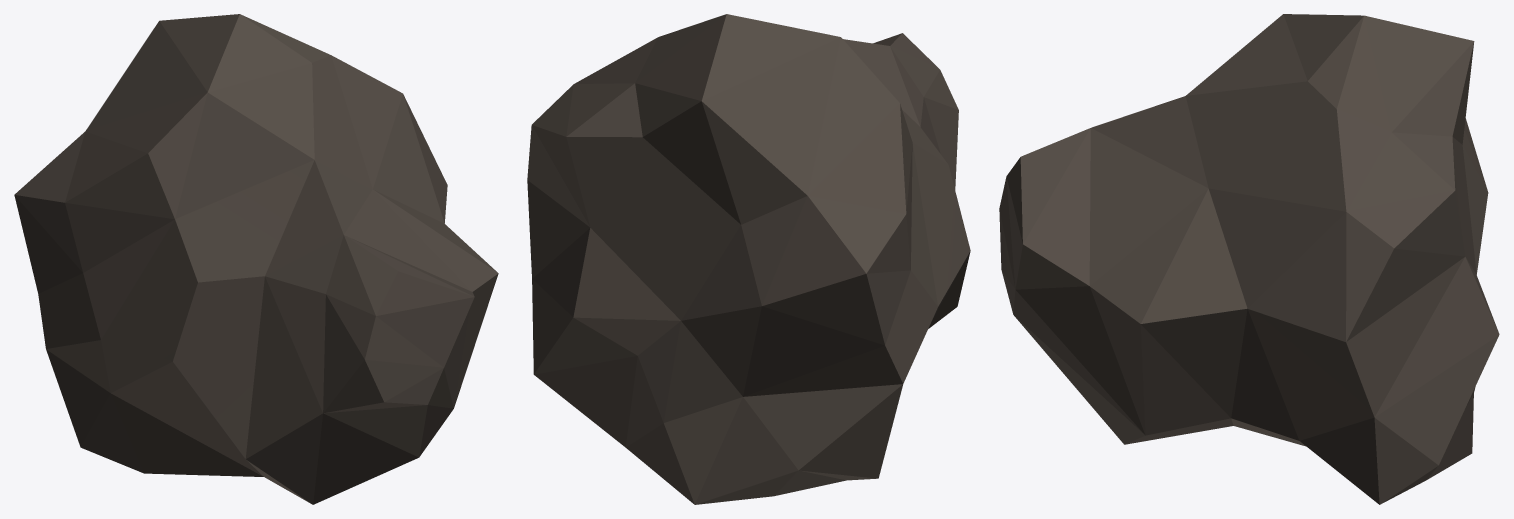
The model's file is RockBeach3.glb.
3 renders of one model, left to right at view 1: azimuth 30°, elevation 25°; view 2: azimuth 150°, elevation 25°; view 3: azimuth 270°, elevation 25°, orthographic. The views are drawn at different scales.
Visible parts, largest first — view 1: RockBeach3; view 2: RockBeach3; view 3: RockBeach3.
Part boxes in pixels (x1,y1,x2,y2): RockBeach3: [14, 14, 498, 504]; RockBeach3: [527, 14, 970, 504]; RockBeach3: [999, 14, 1499, 504].
Bounding box in the file's own units: 0.897 × 1.01 × 0.9707.
Materials: 1 (1 with a texture image).
